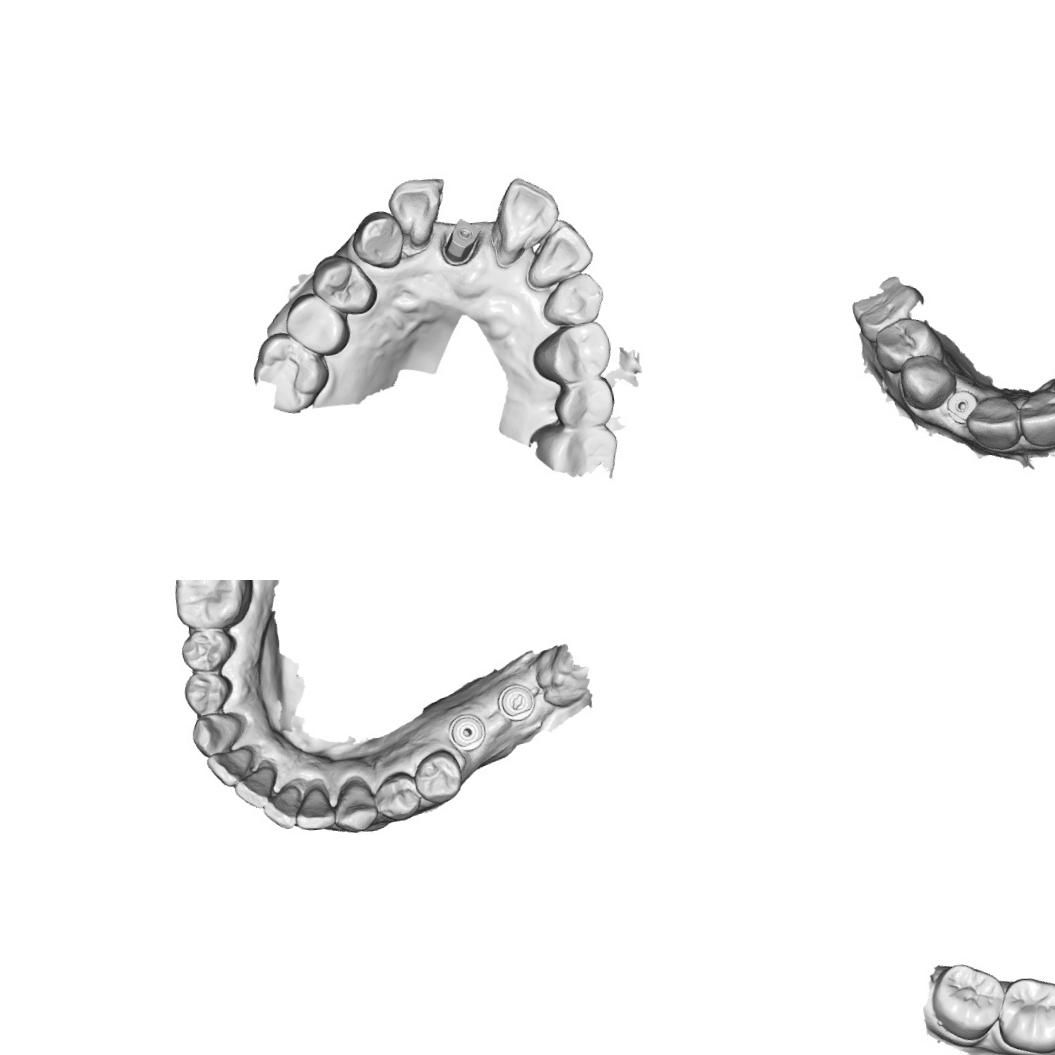canine: (538, 269, 606, 328), (896, 351, 958, 414), (348, 207, 408, 272), (330, 774, 380, 834), (188, 708, 246, 758)
implant: (438, 209, 484, 274), (445, 708, 490, 756), (944, 387, 980, 428)
implant_minus: (494, 680, 540, 726)
incisor: (480, 172, 566, 270), (520, 216, 598, 294), (384, 174, 452, 256), (963, 392, 1022, 455), (292, 779, 338, 834), (204, 744, 258, 790), (231, 762, 281, 811), (1016, 387, 1055, 449), (260, 782, 306, 832)
molar: (250, 327, 336, 418), (927, 959, 1009, 1046), (847, 271, 929, 345), (993, 971, 1055, 1055), (169, 580, 256, 635)
premolar: (528, 318, 615, 388), (282, 287, 354, 360), (307, 250, 380, 321), (550, 375, 618, 431), (868, 321, 940, 372), (410, 746, 466, 807), (178, 625, 239, 676), (180, 667, 236, 720), (372, 768, 423, 824)
